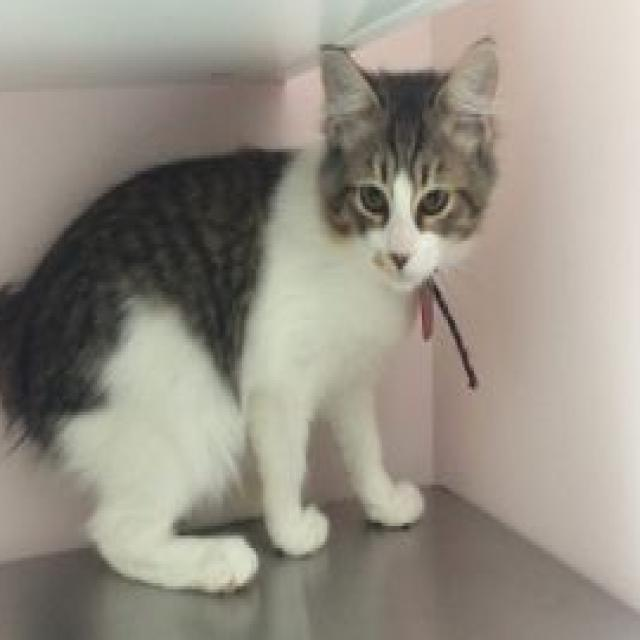American Bobtail: (0, 28, 505, 596)
